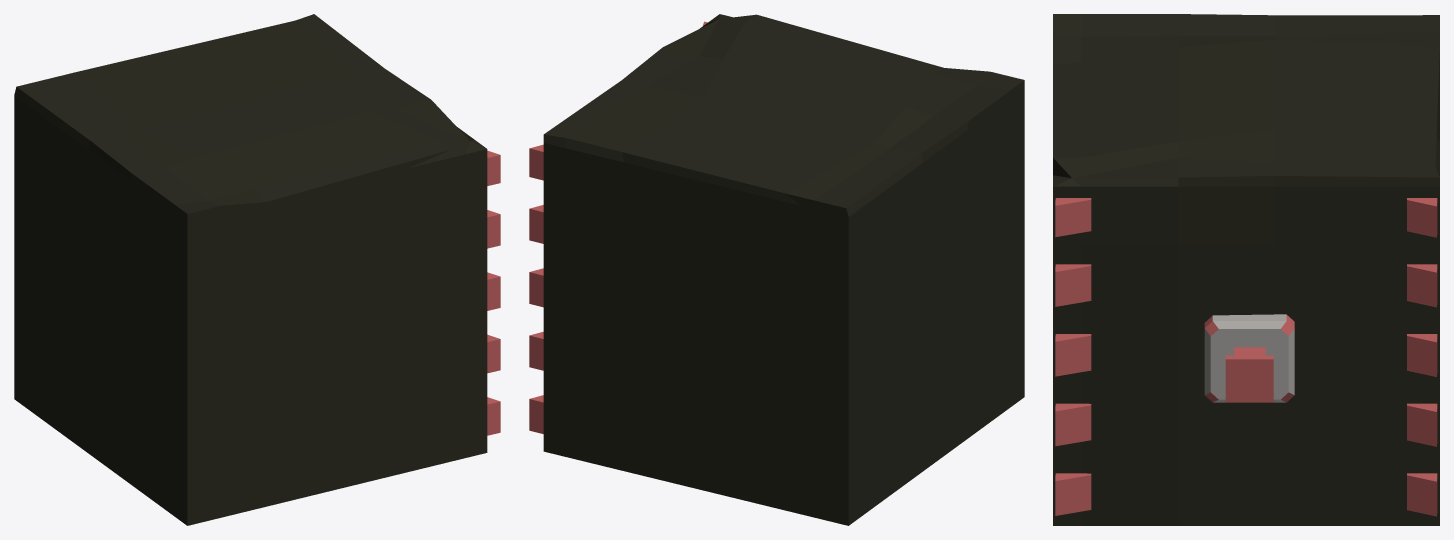
File: button.gltf
3 renders of one model, left to right at view 1: azimuth 30°, elevation 25°; view 2: azimuth 150°, elevation 25°; view 3: azimuth 270°, elevation 25°, orthographic. The views are drawn at different scales.
Visible parts, largest first — view 1: sciana na przycisk; view 2: sciana na przycisk; view 3: sciana na przycisk, przycisk oslonka, przycisk.
Part boxes in pixels (x1,y1,x2,y2): sciana na przycisk: (14,14,500,525); sciana na przycisk: (529,14,1024,525); sciana na przycisk: (1053,14,1439,525); przycisk oslonka: (1204,314,1294,402); przycisk: (1225,347,1273,402).
Size of the model in its own units: 2.32 by 2.01 by 2.
Materials: 1 (1 with a texture image).
